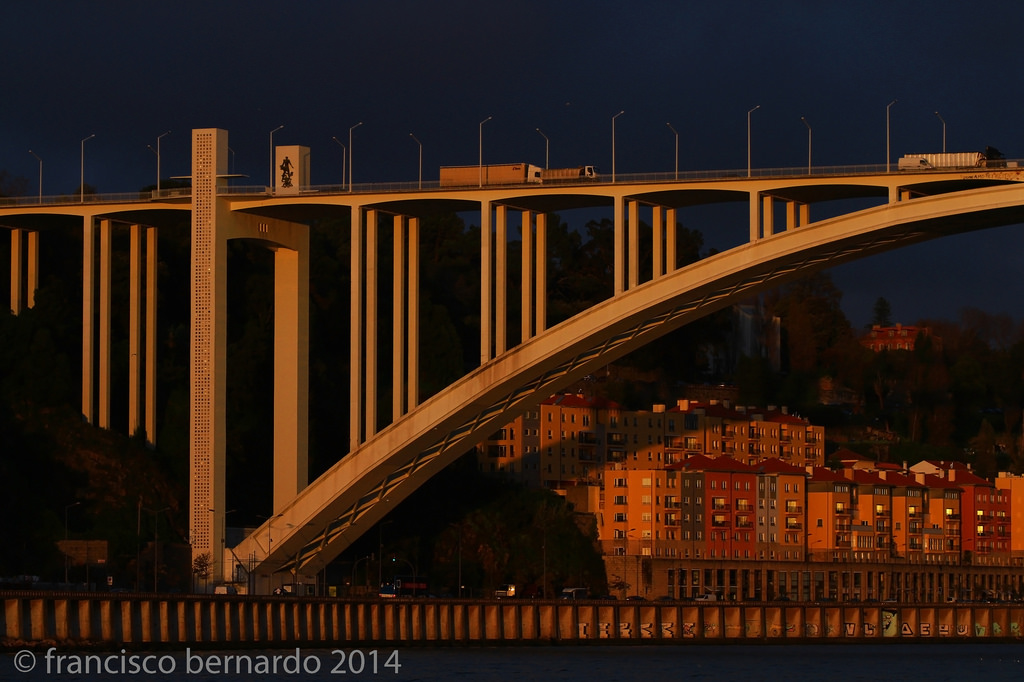arrabida: (0, 124, 1023, 597)
